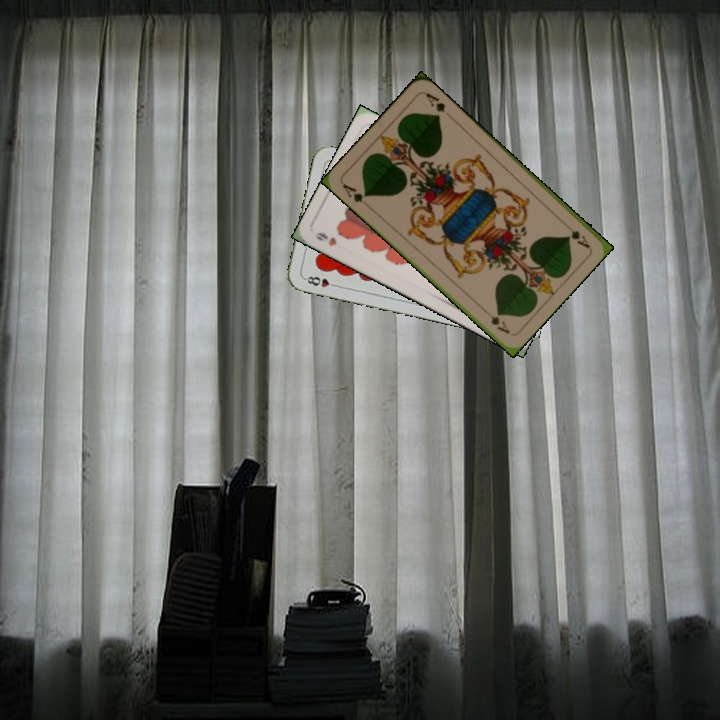GA: (559, 218, 592, 250), (338, 180, 370, 205)
H8: (301, 272, 341, 290)
H9: (311, 228, 339, 249)
